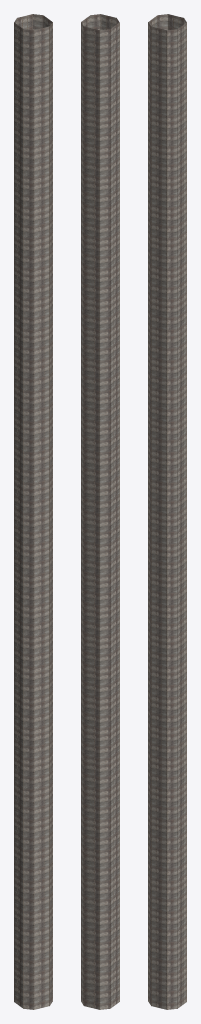
File: elevatorshaft outside.fbx
3 renders of one model, left to right at view 1: azimuth 30°, elevation 25°; view 2: azimuth 150°, elevation 25°; view 3: azimuth 330°, elevation 25°, orthographic.
Visible parts, largest first — view 1: Bloodpool_complex_SM-75m.001; view 2: Bloodpool_complex_SM-75m.001; view 3: Bloodpool_complex_SM-75m.001.
Part boxes in pixels (bbox=[...]): Bloodpool_complex_SM-75m.001: bbox=[14, 14, 52, 1009]; Bloodpool_complex_SM-75m.001: bbox=[81, 14, 119, 1009]; Bloodpool_complex_SM-75m.001: bbox=[148, 14, 186, 1009].
Size of the model in its own units: 1415 by 45058 by 1415.
